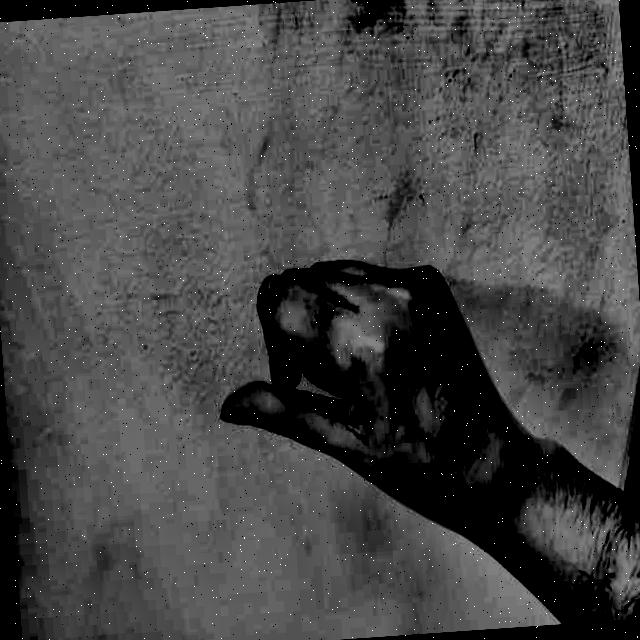Ay: (180, 204, 552, 565)
